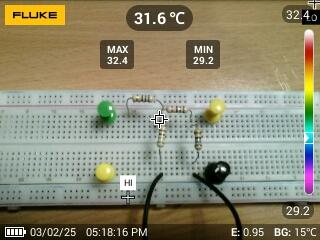resistor: (129, 92, 155, 105), (155, 124, 168, 148), (164, 103, 192, 114), (193, 126, 203, 151)
